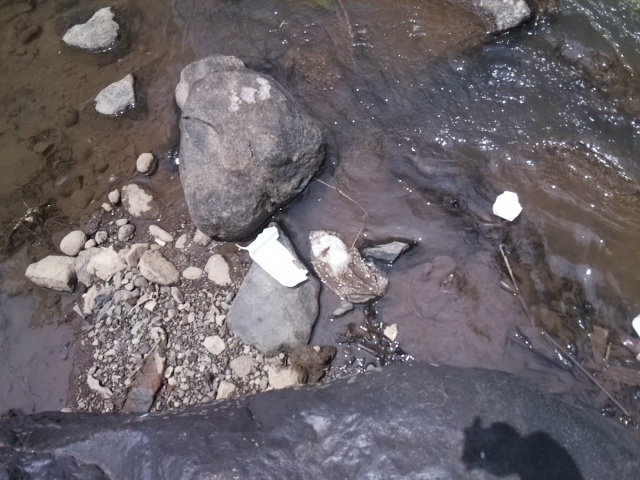Sampah_Plastik: (305, 229, 393, 302)
Sampah_Styrofoam: (243, 224, 309, 293), (490, 191, 524, 227)
